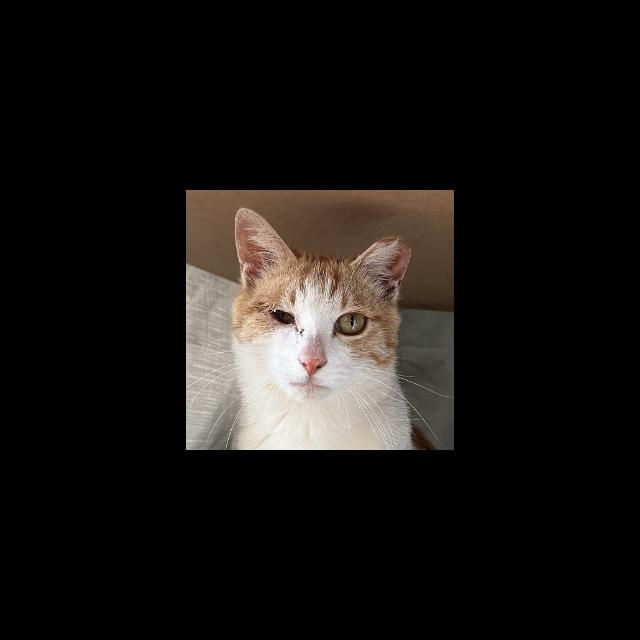animals: (225, 206, 414, 404)
